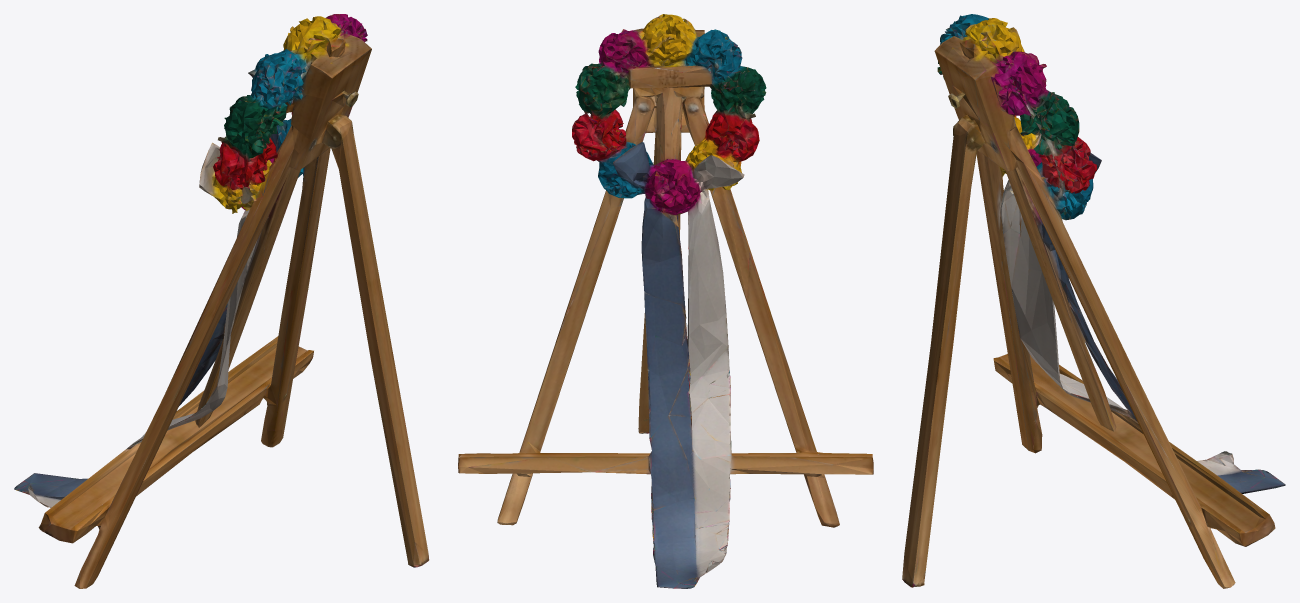
Rendered from 93447725-D165-3442-895F-D90039099DAB_512.glb.
The picture shows the model from 3 angles, left to right: view 1: azimuth 30°, elevation 25°; view 2: azimuth 150°, elevation 25°; view 3: azimuth 270°, elevation 25°; orthographic projection. The views are drawn at different scales.
Parts seen in each view (by area): view 1: Pfingstrosenkranz Bunt_16k_0.5k; view 2: Pfingstrosenkranz Bunt_16k_0.5k; view 3: Pfingstrosenkranz Bunt_16k_0.5k.
Boxes of the visible parts, x1,y1,x2,y2 form: Pfingstrosenkranz Bunt_16k_0.5k: (14, 14, 429, 588); Pfingstrosenkranz Bunt_16k_0.5k: (458, 14, 873, 588); Pfingstrosenkranz Bunt_16k_0.5k: (902, 14, 1285, 588).
Bounding box in the file's own units: 0.3616 × 0.4835 × 0.3158.
Materials: 1 (1 with a texture image).
